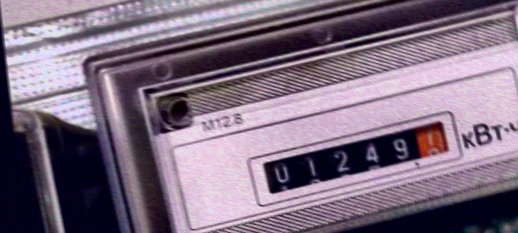0: (267, 157, 289, 185)
1: (299, 153, 316, 179)
2: (328, 147, 351, 175)
4: (359, 138, 380, 166)
7: (418, 123, 436, 149)
9: (388, 134, 409, 161)
screen: (236, 111, 476, 212)
